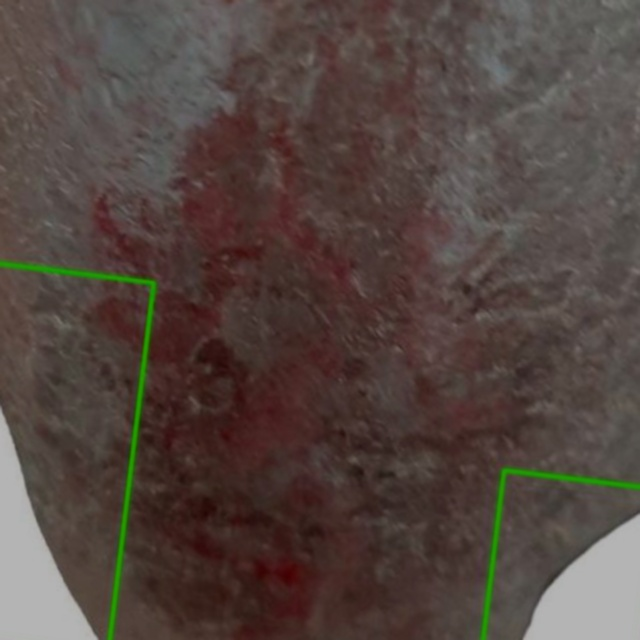Contact Dermatitis: (0, 263, 154, 639)
